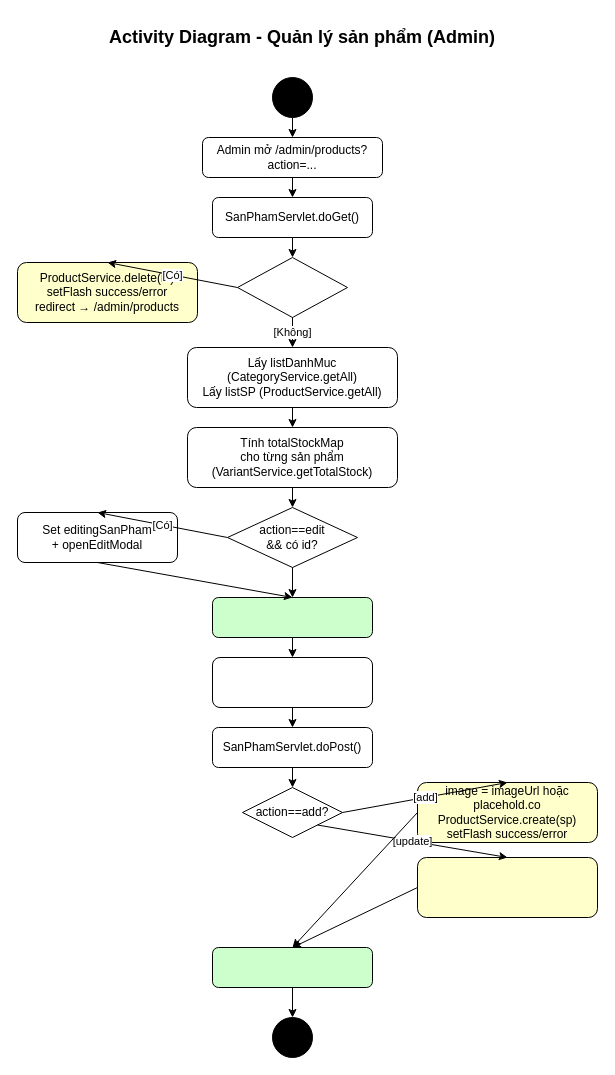
This 615x1075 diagram has some shape labels left out. The shapes that lost their labels are listed below. From the top down, each one's centre as x and y in pixels, then its label:
At point (292, 287): "action== delete?".
At point (292, 617): "forward /admin/product/products.jsp".
At point (292, 682): "POST /admin/products action=add | update".
At point (507, 887): "image = imageUrl hoặc oldImage ProductService.update(sp) setFlash success/error".
At point (292, 967): "redirect → /admin/products".
